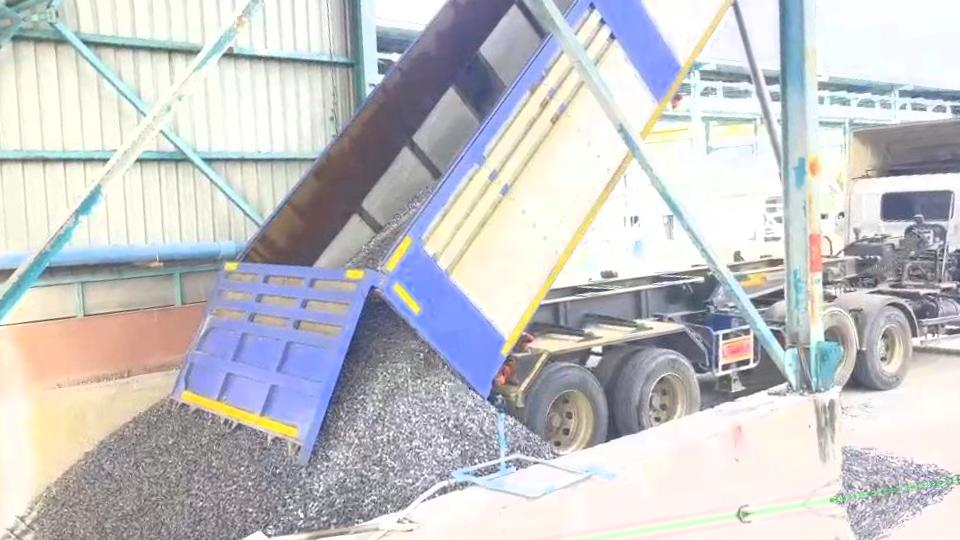gravel: (24, 298, 496, 540), (349, 185, 435, 267), (837, 447, 960, 498), (507, 417, 551, 457)
